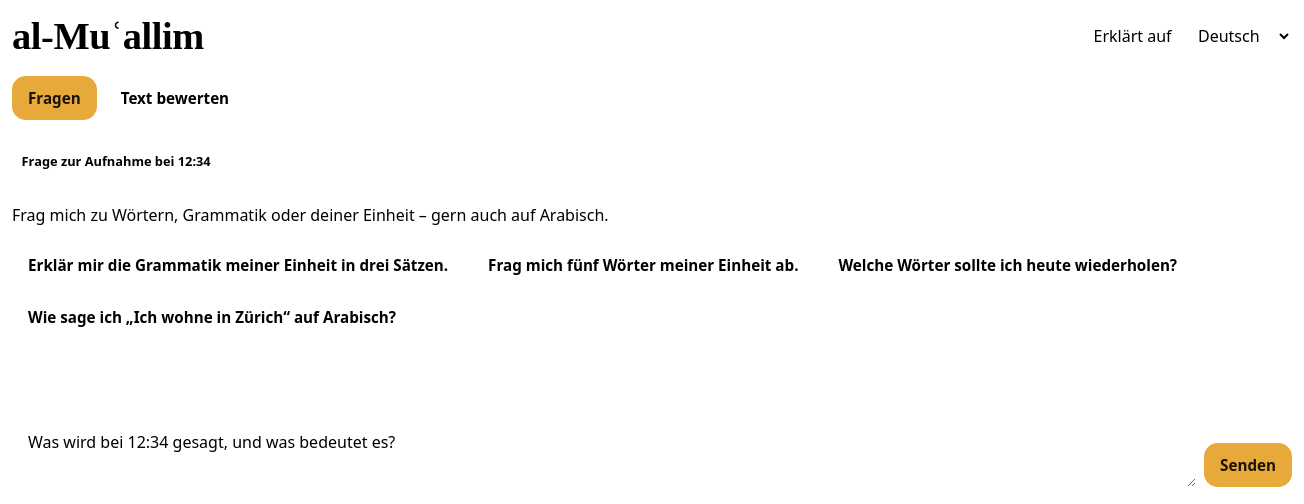
Test: al-Muʿallim page › asks about a minute of a recording
The image size is (1304, 504).
Check: the text "Frage zur Aufnahme bei 12:34" is shown, box 12,149 -> 220,174
What coordinates should you click on to do the following:
click the button "Senden"
I would click on:
 (1248, 465)
Its box is 1204,443 -> 1292,487.
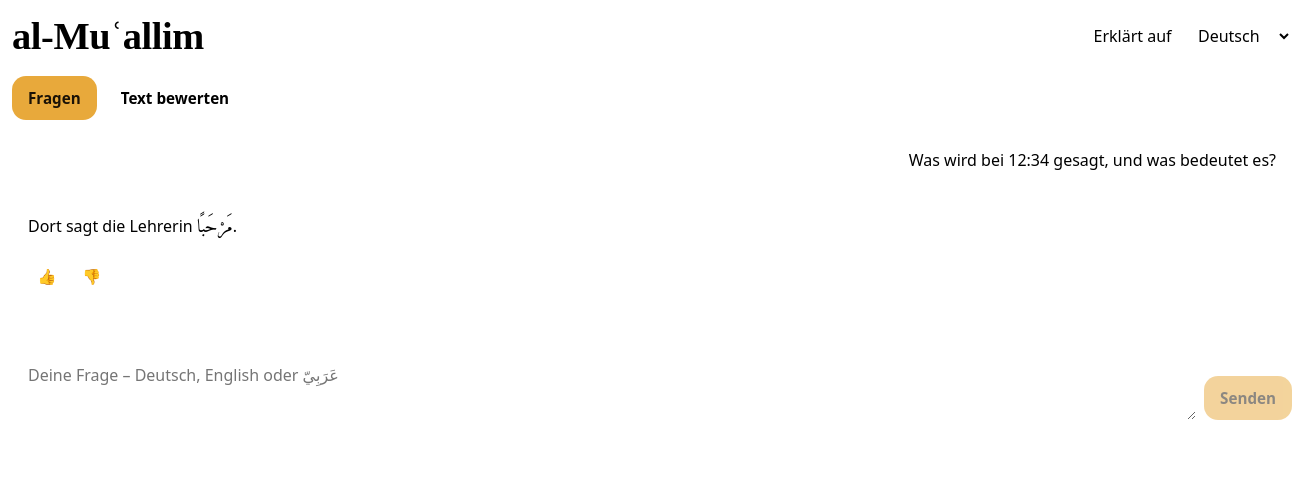
Check: the text "Dort sagt die Lehrerin مَرْحَبًا." is shown, box 28,215 -> 237,237
